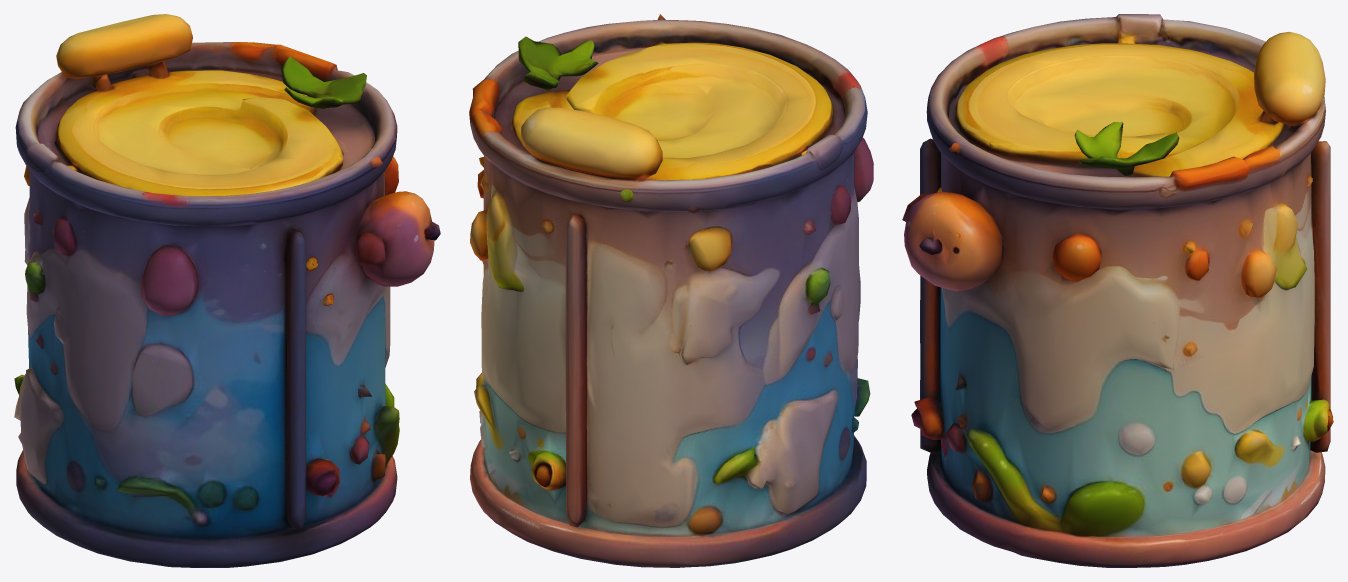
File: can.glb
The picture shows the model from 3 angles, left to right: view 1: azimuth 30°, elevation 25°; view 2: azimuth 150°, elevation 25°; view 3: azimuth 270°, elevation 25°; orthographic projection. The views are drawn at different scales.
Visible parts, largest first — view 1: tripo_node_e8b9a7f8-78dc-46e2-89e0-d2aacc990efc; view 2: tripo_node_e8b9a7f8-78dc-46e2-89e0-d2aacc990efc; view 3: tripo_node_e8b9a7f8-78dc-46e2-89e0-d2aacc990efc.
Boxes of the visible parts, x1,y1,x2,y2 form: tripo_node_e8b9a7f8-78dc-46e2-89e0-d2aacc990efc: (14, 14, 440, 567); tripo_node_e8b9a7f8-78dc-46e2-89e0-d2aacc990efc: (469, 14, 873, 567); tripo_node_e8b9a7f8-78dc-46e2-89e0-d2aacc990efc: (902, 14, 1333, 567).
Bounding box in the file's own units: 0.8488 × 1 × 0.9042.
1 material, 1 textured.
